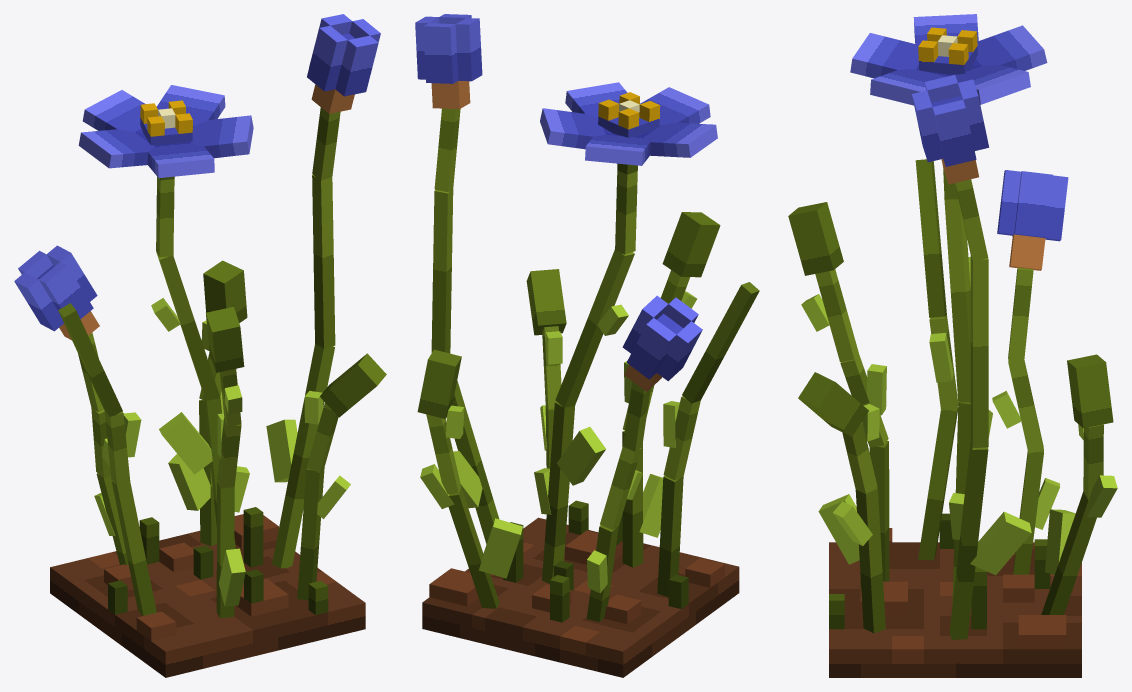
File: flax_2.gltf
The picture shows the model from 3 angles, left to right: view 1: azimuth 30°, elevation 25°; view 2: azimuth 150°, elevation 25°; view 3: azimuth 270°, elevation 25°; orthographic projection. The views are drawn at different scales.
Parts seen in each view (by area): view 1: ground_obj-Local, bulb_obj$$(1)-Local, bulb_obj$$(2)-Local, stem_1$$(4)-Local, stem_2$$(4)-Local, stem_1$$(2)-Local, stem_2-Local, stem_1$$(7)-Local, petal_2-Local, petal_5-Local, stem_3$$(7)-Local, stem_3$$(2)-Local (+24 smaller); view 2: ground_obj-Local, bulb_obj$$(1)-Local, bulb_obj$$(2)-Local, stem_2-Local, stem_1-Local, stem_2$$(4)-Local, stem_3$$(2)-Local, flower_a$$(4)-Local, center-Local, stem_1$$(2)-Local, stem_1$$(8)-Local, stem_3$$(8)-Local (+28 smaller); view 3: ground_obj-Local, bulb_obj$$(1)-Local, bulb_obj$$(2)-Local, stem_1$$(4)-Local, stem_2-Local, stem_2$$(4)-Local, stem_1$$(7)-Local, stem_3$$(2)-Local, flower_a$$(4)-Local, stem_3$$(8)-Local, stem_1$$(2)-Local, stem_1$$(8)-Local (+30 smaller).
Part boxes in pixels (x1,y1,x2,y2): ground_obj-Local: (50, 507, 365, 677); bulb_obj$$(1)-Local: (307, 14, 380, 113); bulb_obj$$(2)-Local: (14, 245, 99, 340); stem_1$$(4)-Local: (272, 344, 334, 568); stem_2$$(4)-Local: (312, 175, 335, 348); stem_1$$(2)-Local: (111, 481, 156, 615); stem_2-Local: (156, 252, 220, 400); stem_1$$(7)-Local: (297, 467, 324, 600); petal_2-Local: (78, 129, 155, 168); petal_5-Local: (187, 115, 253, 158); stem_3$$(7)-Local: (320, 353, 386, 417); stem_3$$(2)-Local: (58, 303, 122, 416); ground_obj-Local: (422, 500, 739, 677); bulb_obj$$(1)-Local: (415, 14, 482, 109); bulb_obj$$(2)-Local: (622, 295, 702, 391); stem_2-Local: (555, 249, 634, 408); stem_1-Local: (542, 402, 575, 583); stem_2$$(4)-Local: (431, 189, 453, 353); stem_3$$(2)-Local: (682, 282, 759, 403); flower_a$$(4)-Local: (662, 212, 720, 277); center-Local: (598, 92, 660, 174); stem_1$$(2)-Local: (657, 475, 683, 597); stem_1$$(8)-Local: (448, 487, 499, 608); stem_3$$(8)-Local: (417, 349, 461, 418); ground_obj-Local: (829, 513, 1081, 677); bulb_obj$$(1)-Local: (912, 75, 989, 184); bulb_obj$$(2)-Local: (997, 170, 1068, 270); stem_1$$(4)-Local: (949, 442, 988, 639); stem_2-Local: (944, 199, 970, 402); stem_2$$(4)-Local: (970, 255, 988, 448); stem_1$$(7)-Local: (855, 488, 885, 633); stem_3$$(2)-Local: (915, 159, 946, 317); flower_a$$(4)-Local: (788, 202, 843, 275); stem_3$$(8)-Local: (1067, 354, 1113, 428); stem_1$$(2)-Local: (918, 407, 958, 560); stem_1$$(8)-Local: (1041, 491, 1096, 614).
Size of the model in its own units: 25.96 by 42.79 by 20.83.
46 materials, 46 textured.
